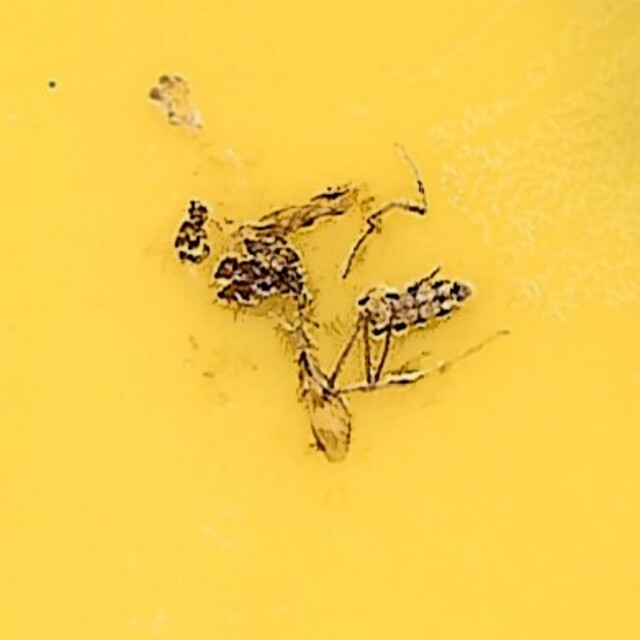Nematocera: (164, 172, 476, 468)
